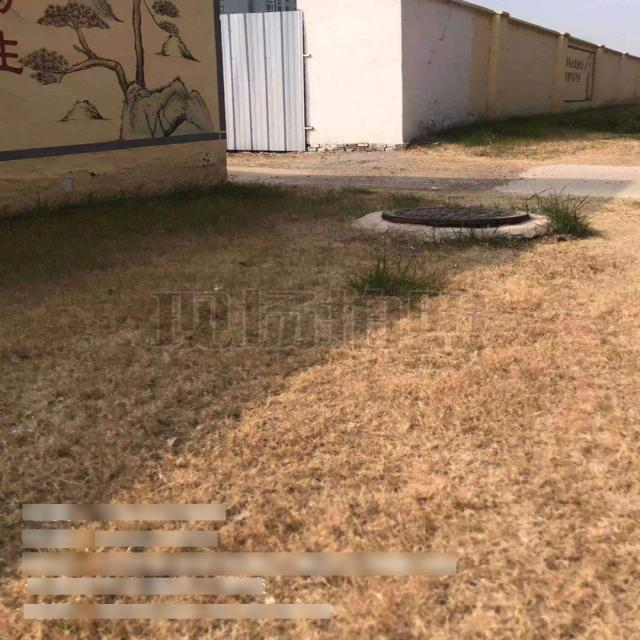Lose: (372, 206, 550, 234)
